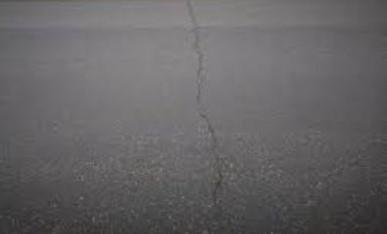crack: (181, 1, 231, 234)
